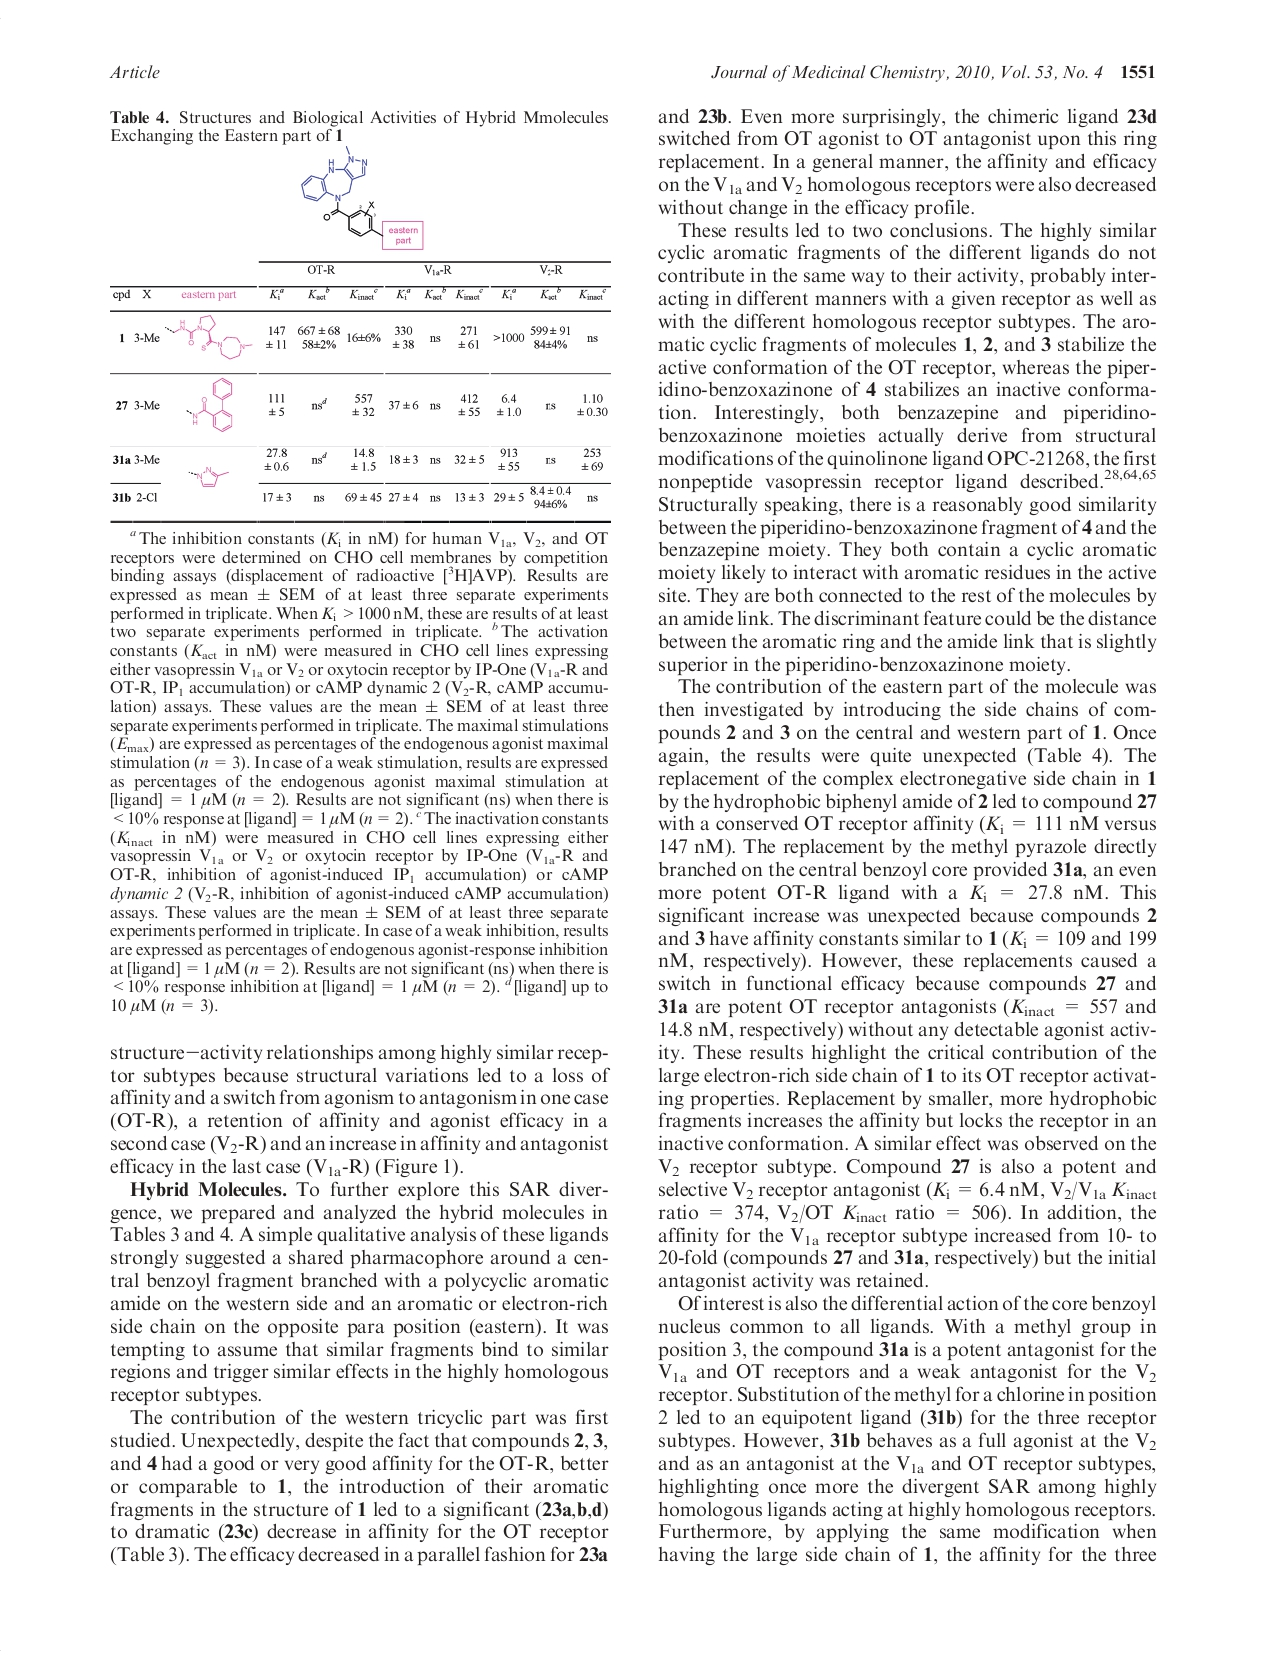exist_molecular: (299, 144, 383, 241), (164, 313, 253, 360), (186, 376, 234, 434), (188, 463, 231, 488)
